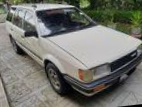car: (4, 0, 142, 107)
